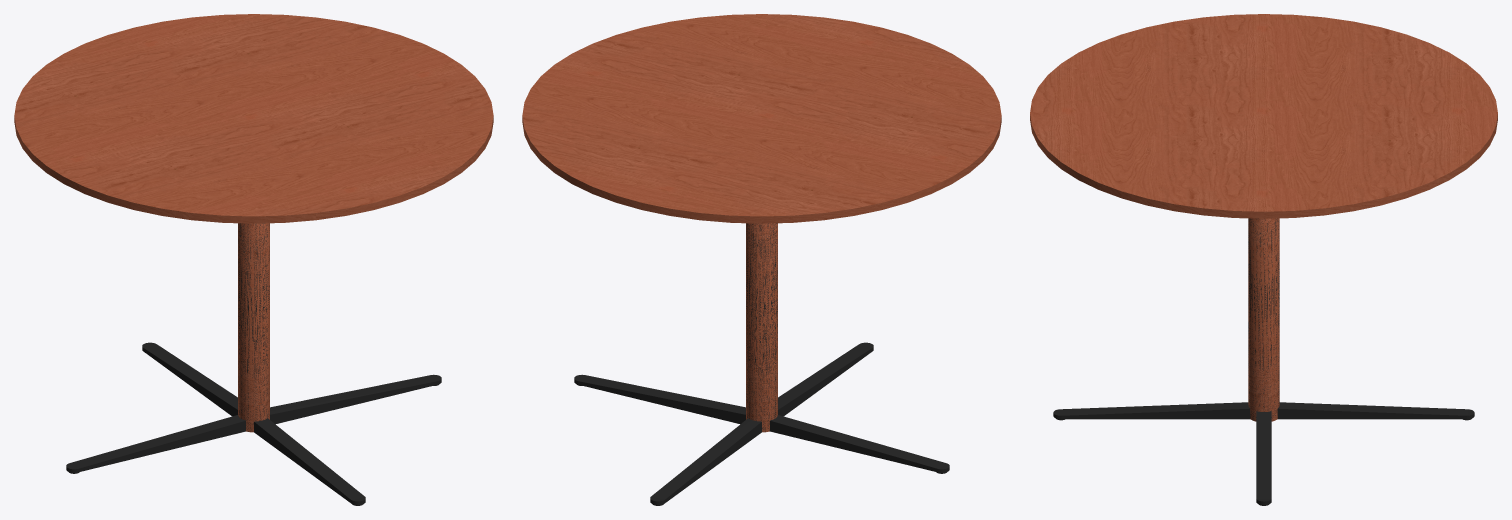
File: ROUND+WOODEN+TABLE.fbx
3 views of the same model, side by side, from view 1: azimuth 30°, elevation 25°; view 2: azimuth 150°, elevation 25°; view 3: azimuth 270°, elevation 25° (orthographic). The views are drawn at different scales.
Parts seen in each view (by area): view 1: Group_9_1, Group1, Group3, Group2, Group4; view 2: Group_9_1, Group1, Group3, Group4, Group2; view 3: Group_9_1, Group2, Group4, Group3.
Part boxes in pixels (x1,y1,x2,y2): Group_9_1: (14, 14, 493, 432); Group1: (66, 415, 245, 473); Group3: (270, 374, 441, 424); Group2: (254, 418, 365, 505); Group4: (142, 342, 237, 416); Group_9_1: (522, 14, 1001, 432); Group1: (770, 415, 949, 473); Group3: (574, 374, 745, 424); Group4: (650, 418, 761, 505); Group2: (778, 342, 873, 416); Group_9_1: (1030, 14, 1497, 421); Group2: (1053, 402, 1250, 420); Group4: (1277, 402, 1474, 420); Group3: (1256, 411, 1271, 505).
Size of the model in its own units: 1.2 by 0.8628 by 1.2.
